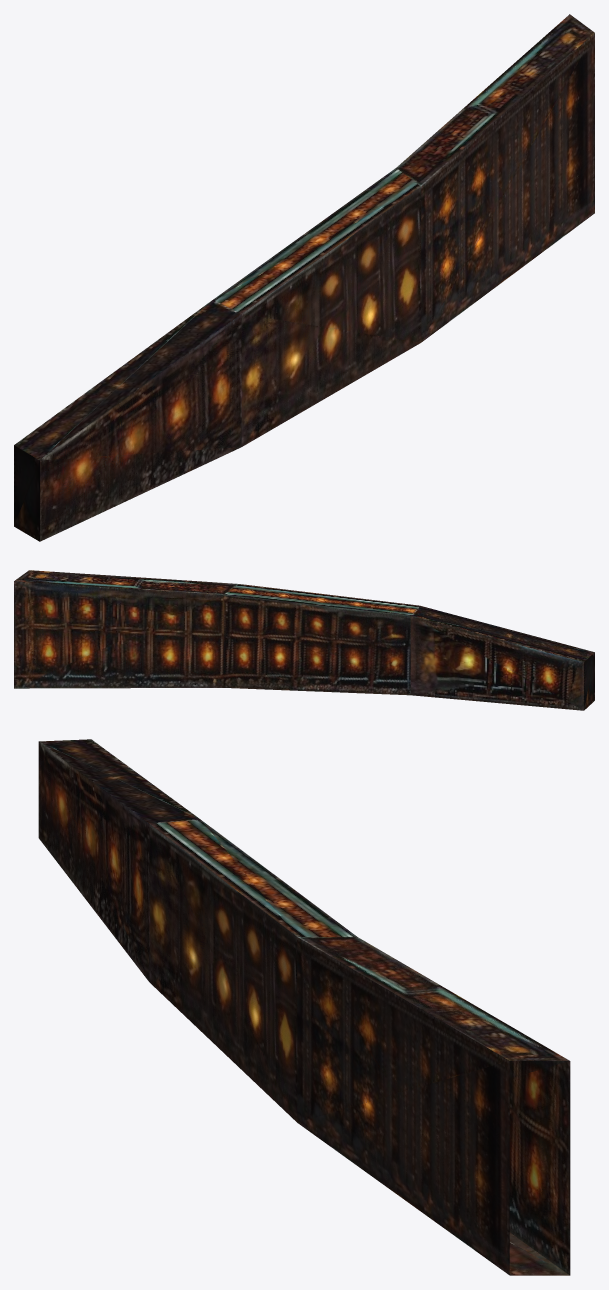
Rendered from wall_up_right_lvl_3.glb.
The picture shows the model from 3 angles, top to bottom: view 1: azimuth 30°, elevation 25°; view 2: azimuth 150°, elevation 25°; view 3: azimuth 270°, elevation 25°; orthographic projection. The views are drawn at different scales.
Visible parts, largest first — view 1: Mesh_0.001; view 2: Mesh_0.001; view 3: Mesh_0.001.
Boxes of the visible parts, x1,y1,x2,y2 form: Mesh_0.001: [14, 14, 594, 541]; Mesh_0.001: [14, 570, 594, 710]; Mesh_0.001: [38, 739, 570, 1275].
Bounding box in the file's own units: 0.1917 × 0.0437 × 0.0979.
Materials: 1 (1 with a texture image).
